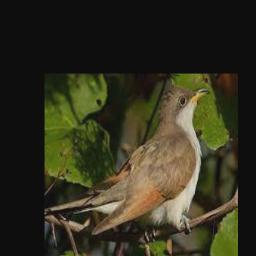Cuckoo: (75, 88, 210, 234)
